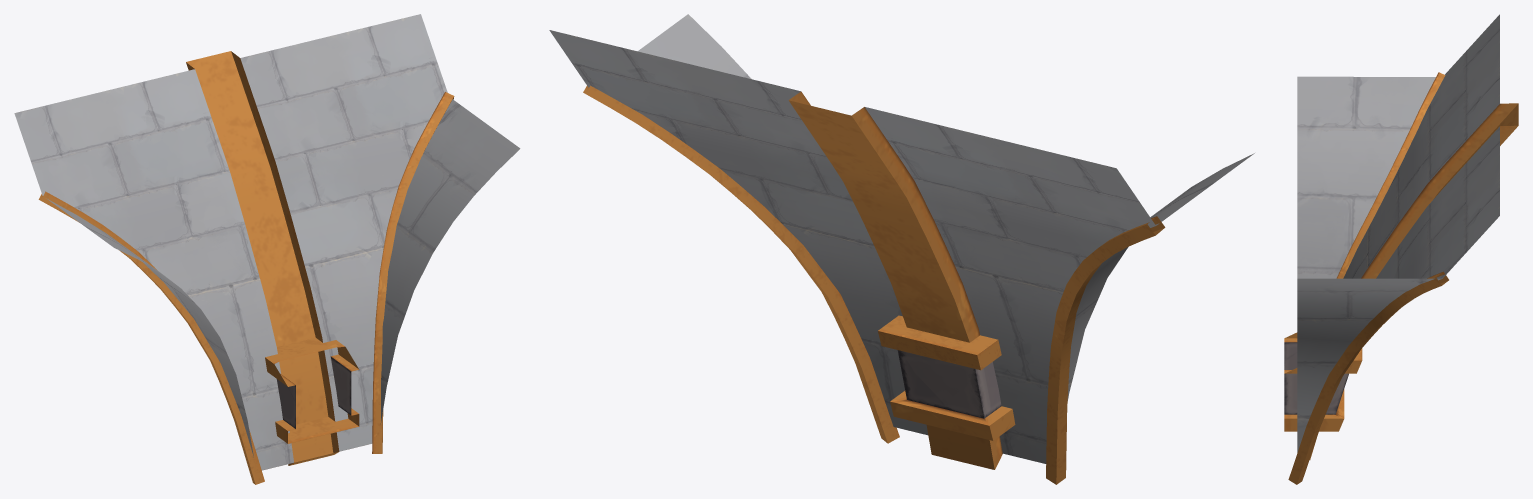
Rendered from SM_CeilingArchBorder.fbx.
The picture shows the model from 3 angles, left to right: view 1: azimuth 30°, elevation 25°; view 2: azimuth 150°, elevation 25°; view 3: azimuth 270°, elevation 25°; orthographic projection. The views are drawn at different scales.
Visible parts, largest first — view 1: SM_CeilingArchBorder; view 2: SM_CeilingArchBorder; view 3: SM_CeilingArchBorder.
Part boxes in pixels (x1=…): SM_CeilingArchBorder: x1=14, y1=14, x2=520, y2=484; SM_CeilingArchBorder: x1=549, y1=14, x2=1254, y2=484; SM_CeilingArchBorder: x1=1284, y1=14, x2=1518, y2=484.
Size of the model in its own units: 4.08 by 3.13 by 1.96.
